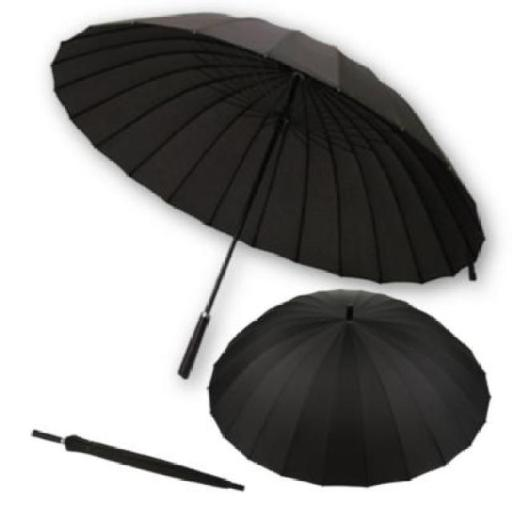guarda_chuva: (48, 11, 485, 378), (207, 288, 491, 487), (30, 428, 245, 491)
